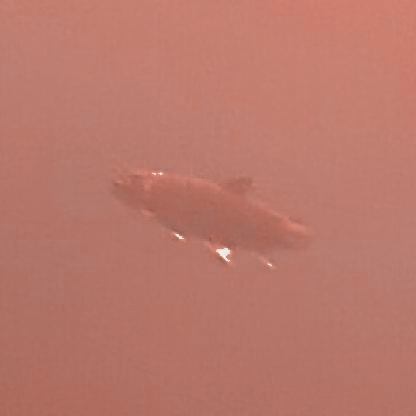salmon: (100, 163, 326, 270)
